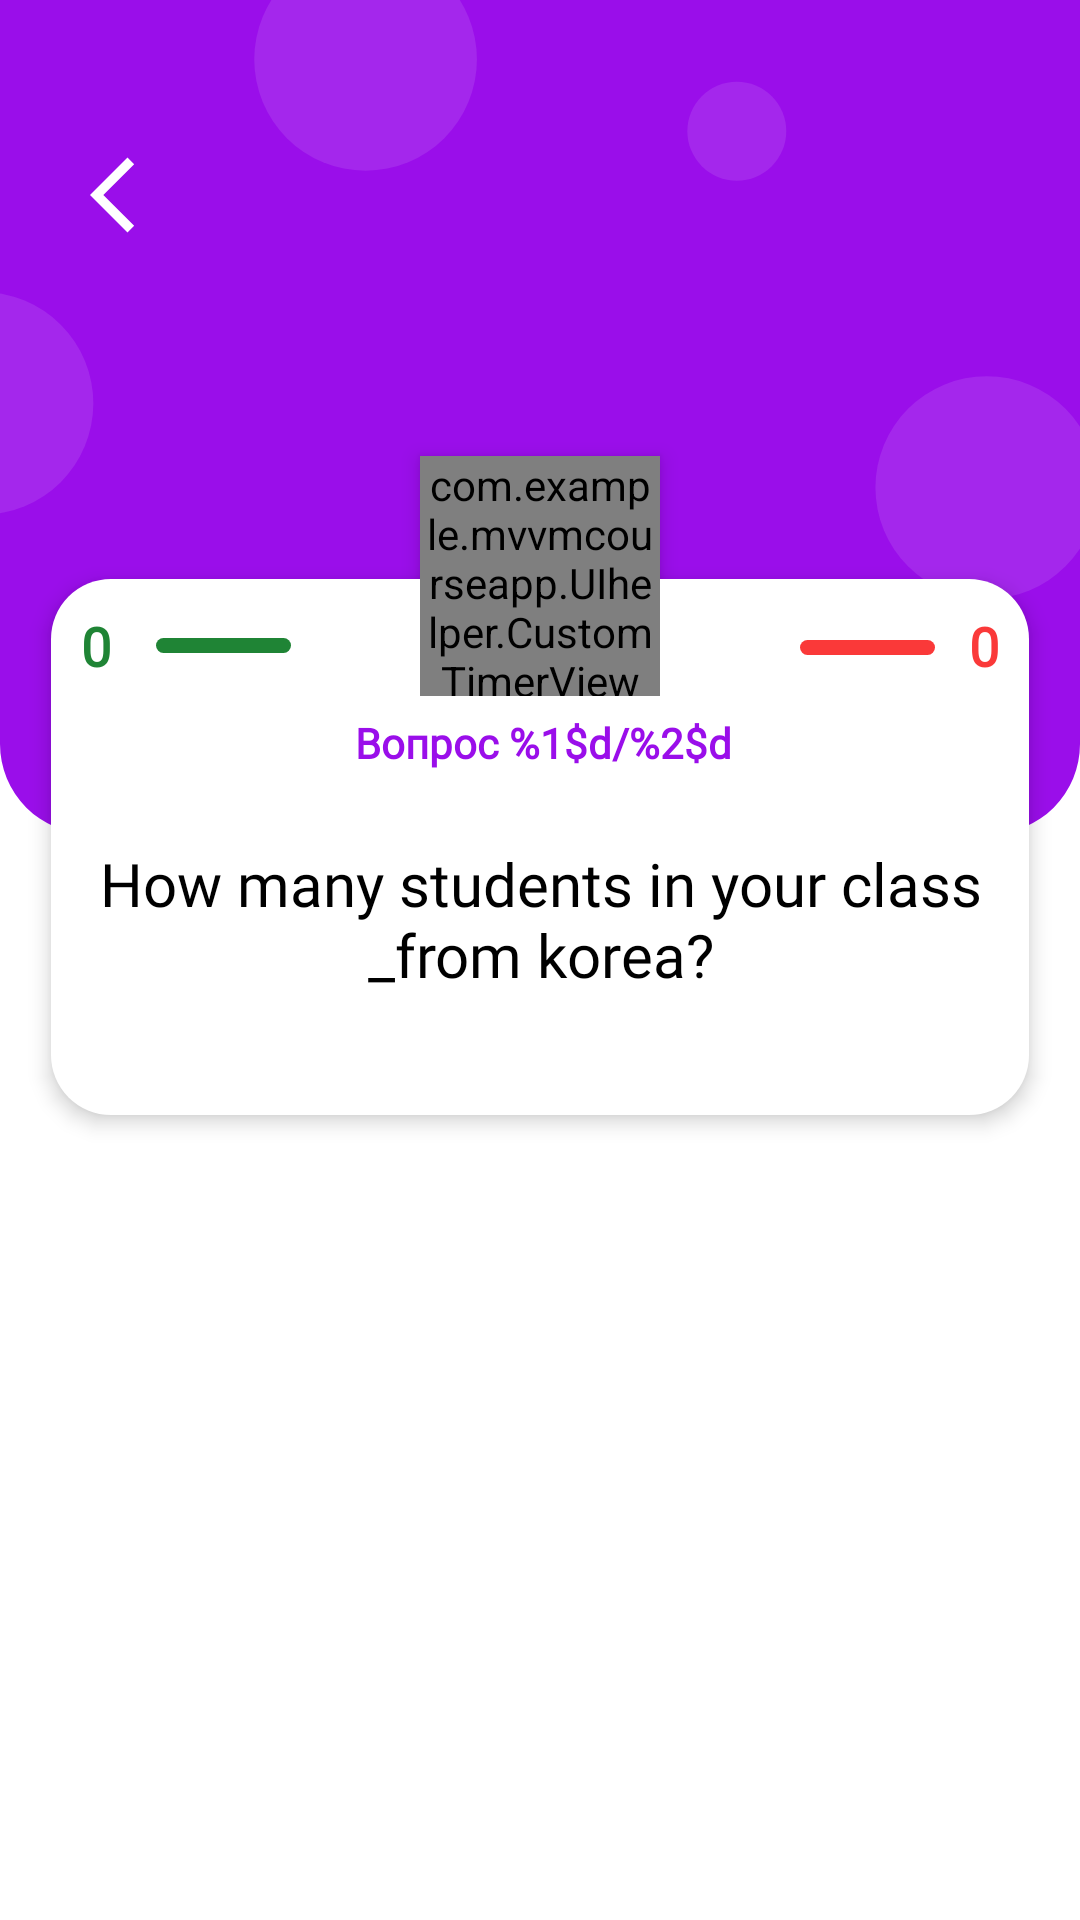

Icon bounding boxes for this 1080px×1920px phone screenshot, format (x1, y1, x2, y2):
back to menu button: (90, 157, 134, 233)
